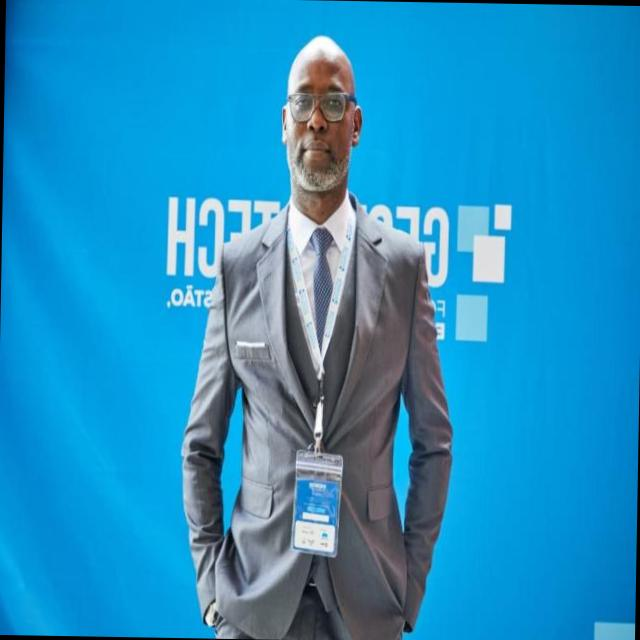id_card: (283, 206, 356, 560)
